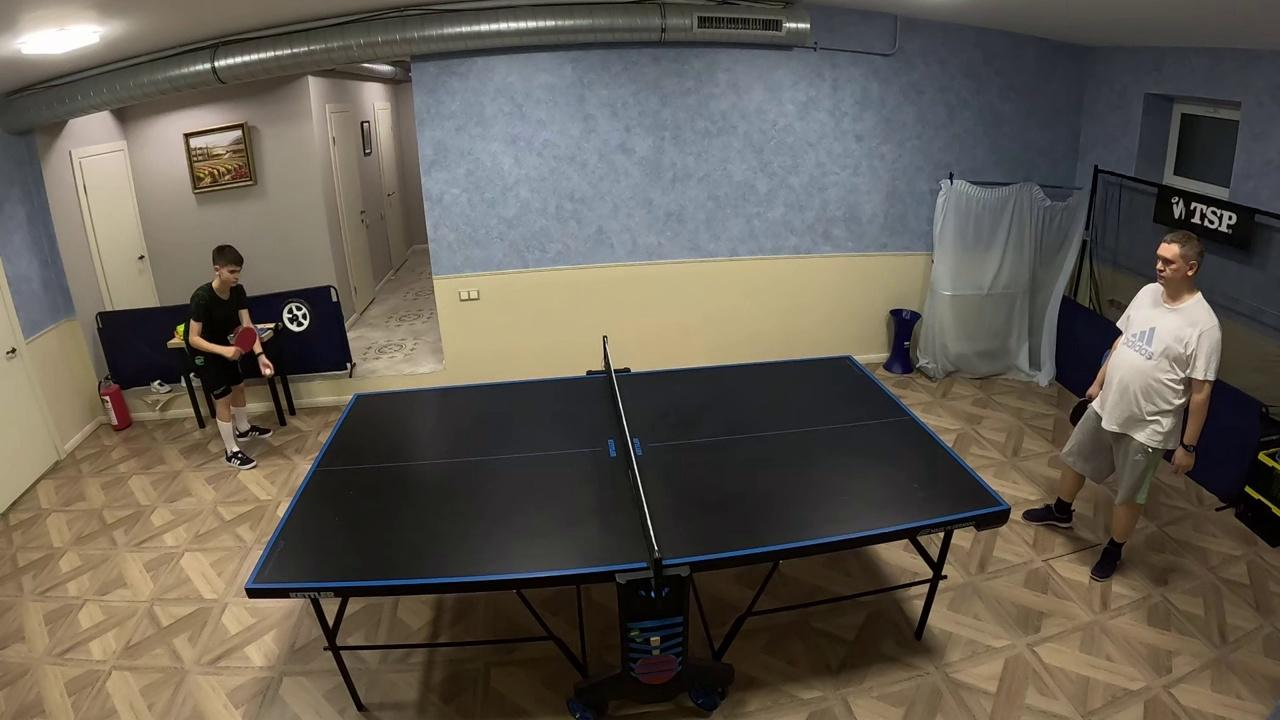Ball: (260, 367, 274, 379)
Net: (586, 336, 689, 589)
Player1: (184, 238, 293, 477)
Player2: (1032, 199, 1226, 609)
Table: (248, 372, 649, 596), (616, 356, 1011, 570)
